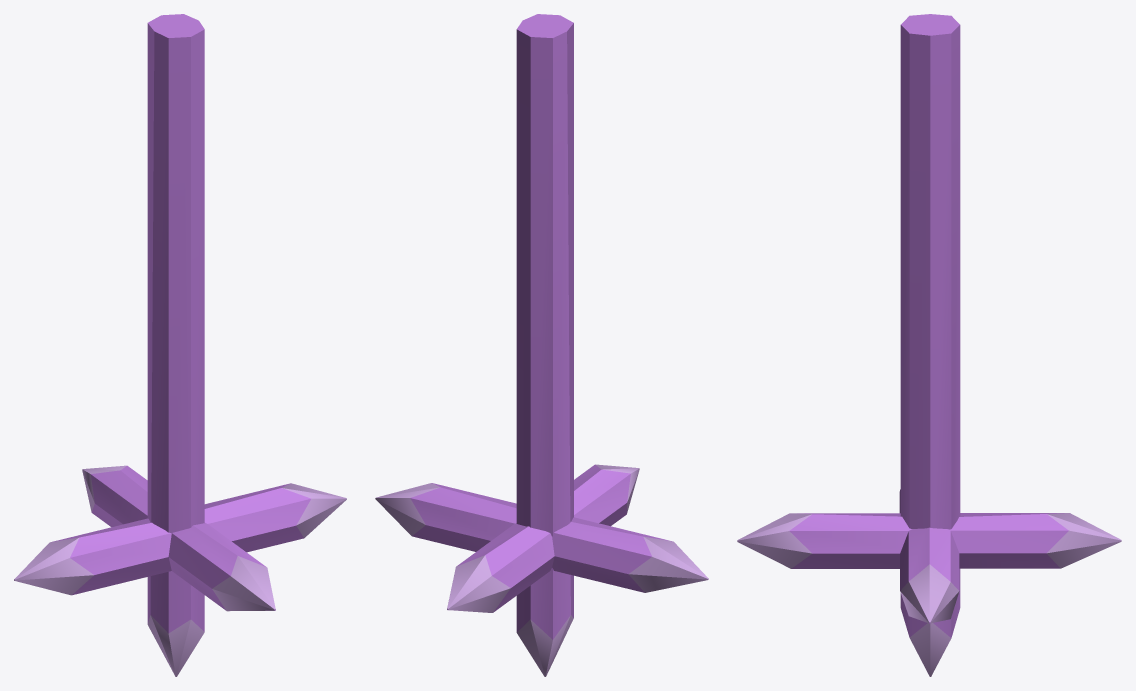
Rendered from round_7.fbx.
3 views of the same model, side by side, from view 1: azimuth 30°, elevation 25°; view 2: azimuth 150°, elevation 25°; view 3: azimuth 270°, elevation 25° (orthographic).
Visible parts, largest first — view 1: polySurface19; view 2: polySurface19; view 3: polySurface19.
Part boxes in pixels (<box>): polySurface19: <box>14,14,346,676</box>; polySurface19: <box>375,14,708,676</box>; polySurface19: <box>737,14,1121,676</box>.
Bounding box in the file's own units: 12.96 × 24.24 × 12.96.
